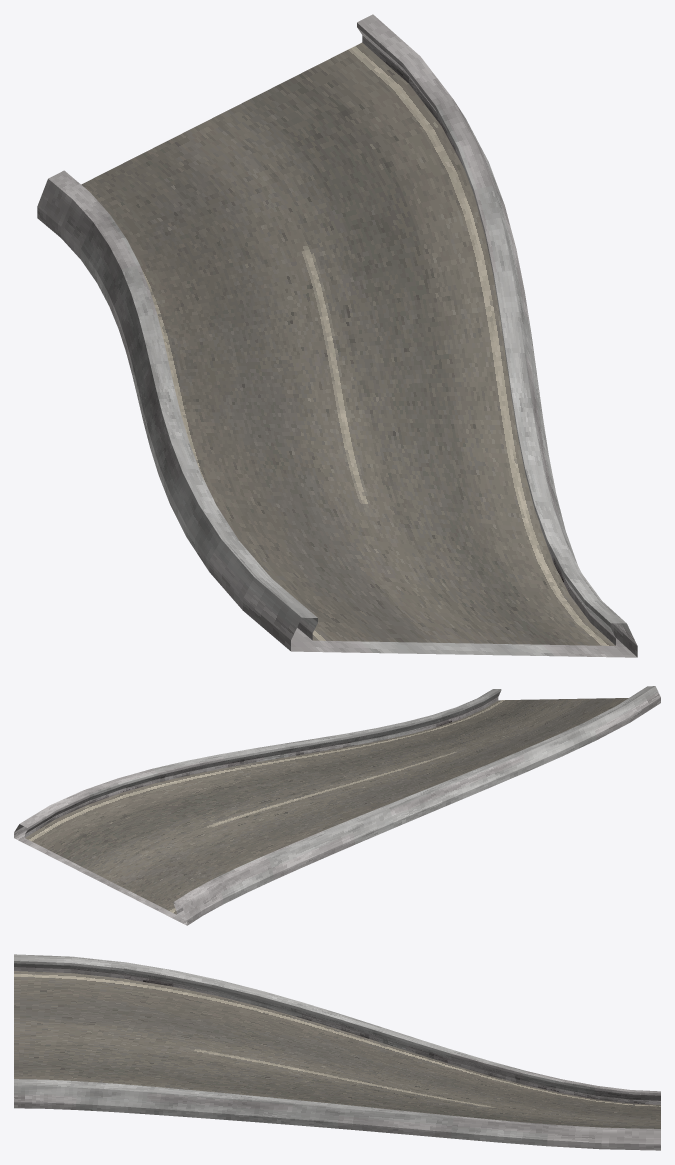
The model's file is chicane-right1x3.glb.
3 renders of one model, top to bottom at view 1: azimuth 30°, elevation 25°; view 2: azimuth 150°, elevation 25°; view 3: azimuth 270°, elevation 25°, orthographic. The views are drawn at different scales.
Visible parts, largest first — view 1: road-Chicane-HalfBankedRight-HalfBankedLeft-Even-Right1-Size; view 2: road-Chicane-HalfBankedRight-HalfBankedLeft-Even-Right1-Size; view 3: road-Chicane-HalfBankedRight-HalfBankedLeft-Even-Right1-Size.
Part boxes in pixels (x1,y1,x2,y2): road-Chicane-HalfBankedRight-HalfBankedLeft-Even-Right1-Size: (37, 14, 637, 657); road-Chicane-HalfBankedRight-HalfBankedLeft-Even-Right1-Size: (14, 686, 660, 925); road-Chicane-HalfBankedRight-HalfBankedLeft-Even-Right1-Size: (14, 954, 660, 1150).
Bounding box in the file's own units: 2 × 0.3359 × 3.
2 materials, 2 textured.
